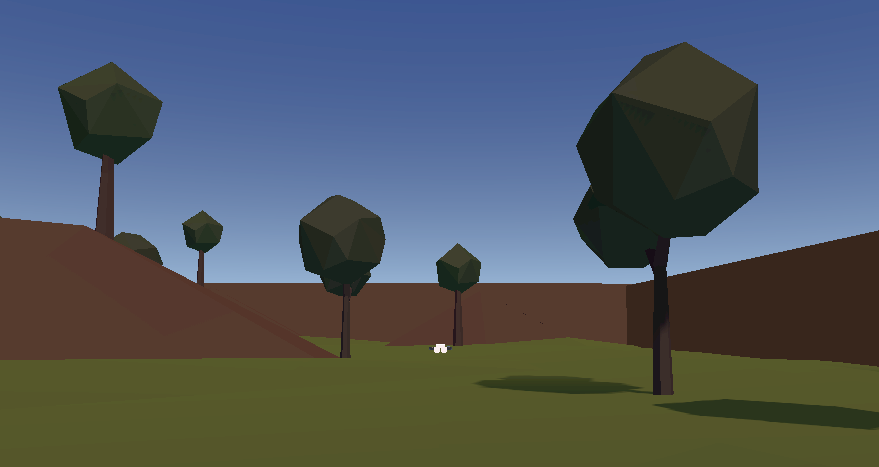tree: (571, 42, 761, 397), (58, 59, 165, 238), (297, 191, 396, 359), (436, 244, 493, 342), (182, 209, 225, 284), (111, 232, 169, 267)
